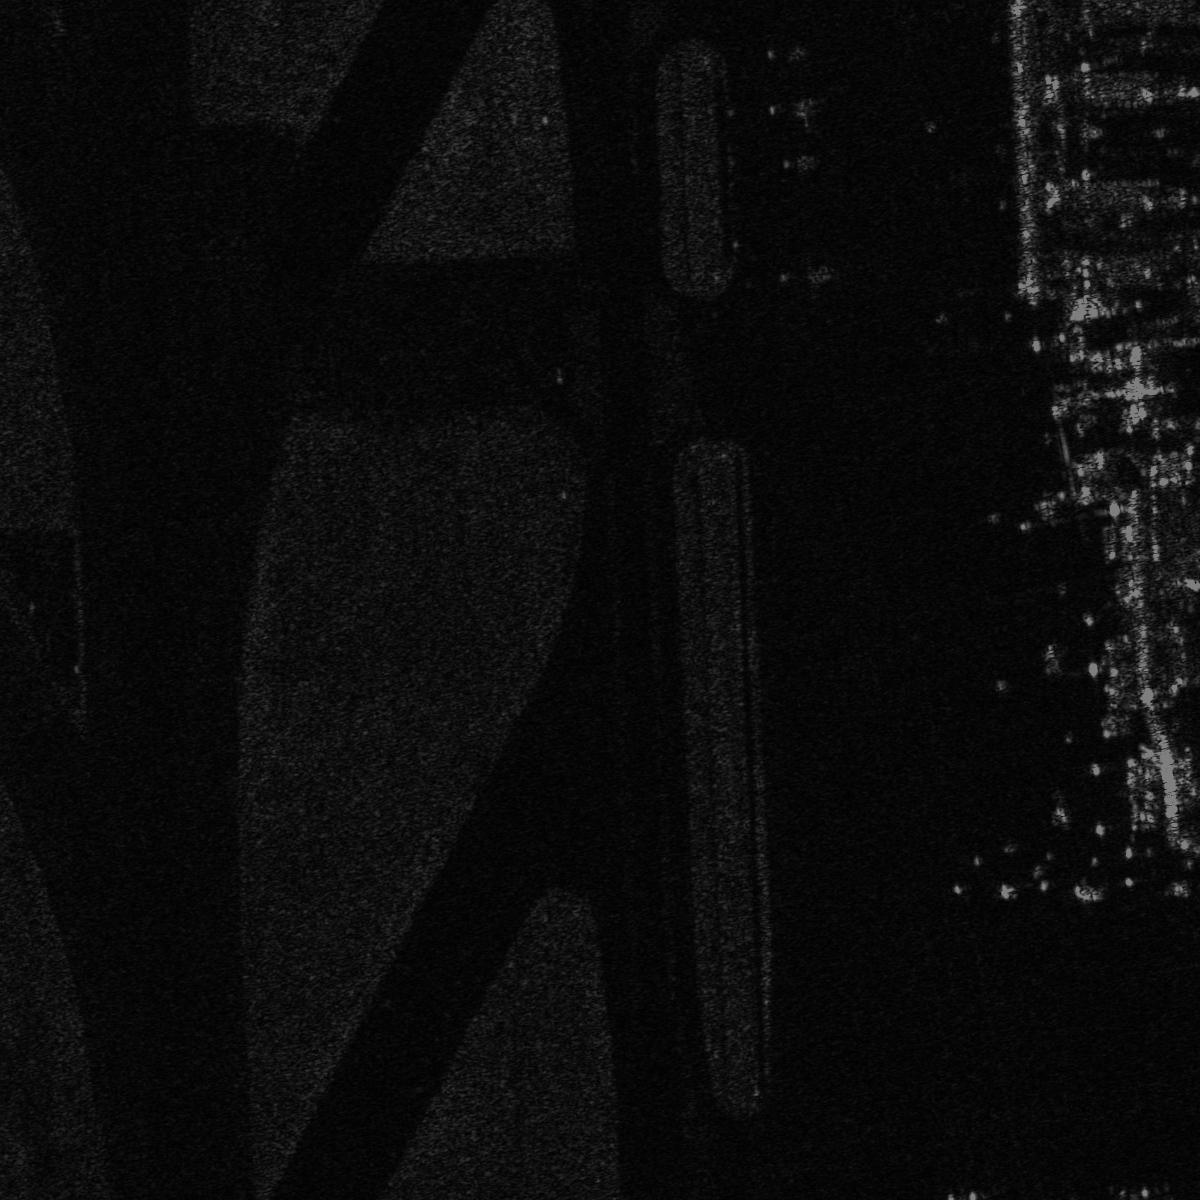ARJ21: (754, 88, 835, 138), (771, 142, 827, 184)
other: (774, 251, 843, 303), (762, 37, 818, 67), (932, 1184, 1011, 1199)
